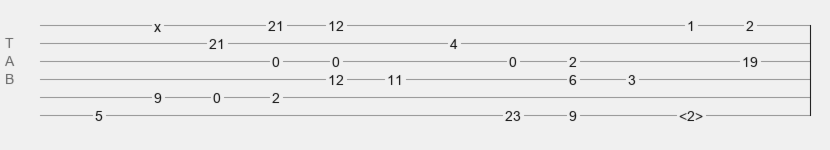0: (213, 90, 221, 100), (272, 54, 280, 64), (332, 54, 340, 64), (509, 54, 517, 64)
1: (687, 18, 695, 28)
11: (387, 72, 403, 82)
12: (328, 72, 344, 82), (328, 18, 344, 28)
19: (742, 54, 758, 64)
2: (272, 90, 280, 100), (569, 54, 577, 64), (746, 18, 754, 28)
21: (209, 36, 225, 46), (268, 18, 284, 28)
23: (505, 108, 521, 118)
3: (628, 72, 636, 82)
4: (450, 36, 458, 46)
5: (95, 108, 103, 118)
6: (569, 72, 577, 82)
9: (154, 90, 162, 100), (569, 108, 577, 118)
harmonic: (679, 108, 703, 118)
x: (154, 19, 161, 27)
